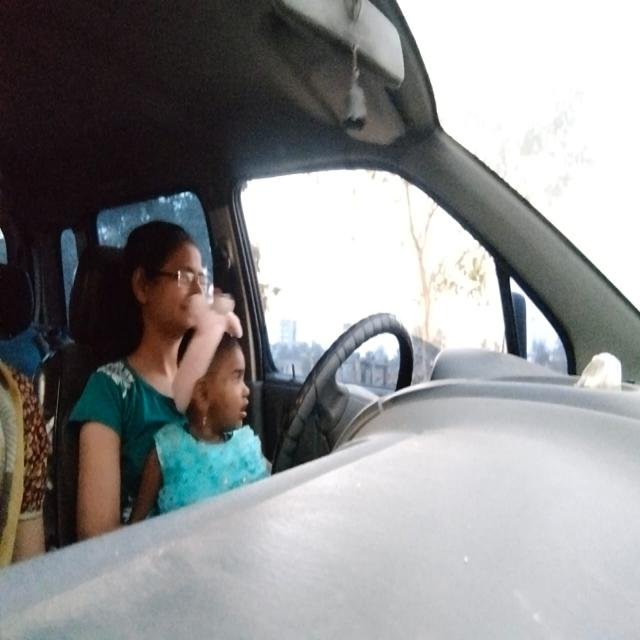child: (174, 326, 254, 430)
person: (122, 217, 210, 333)
